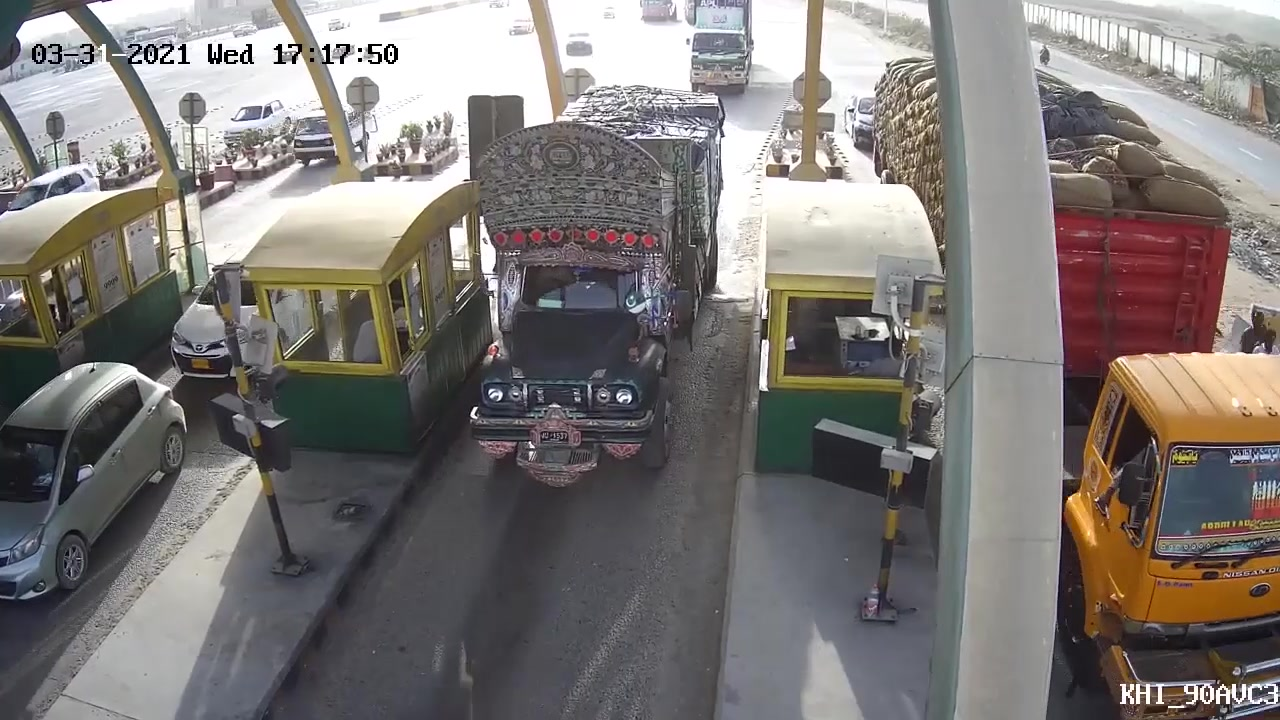F5: (466, 73, 737, 487)
